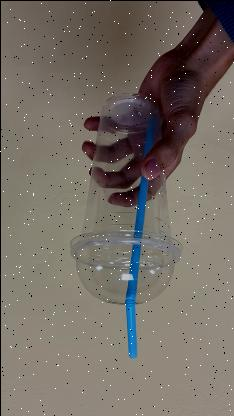Others: (66, 95, 172, 331)
